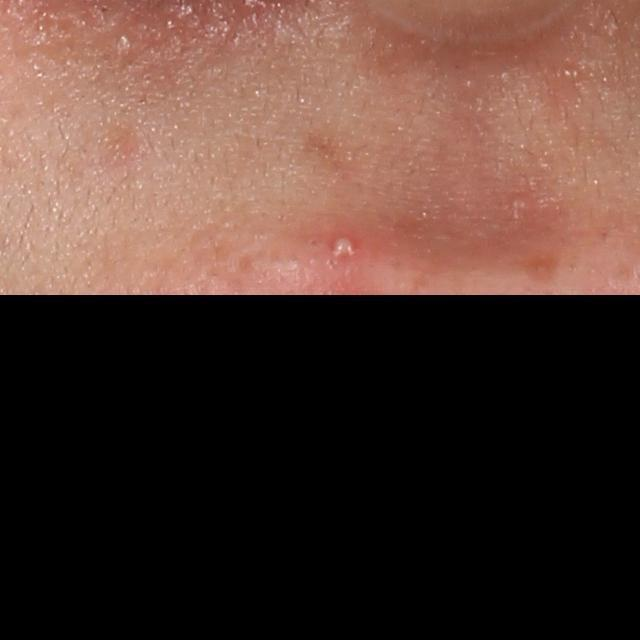pustule: (324, 233, 360, 267), (508, 194, 533, 214)
